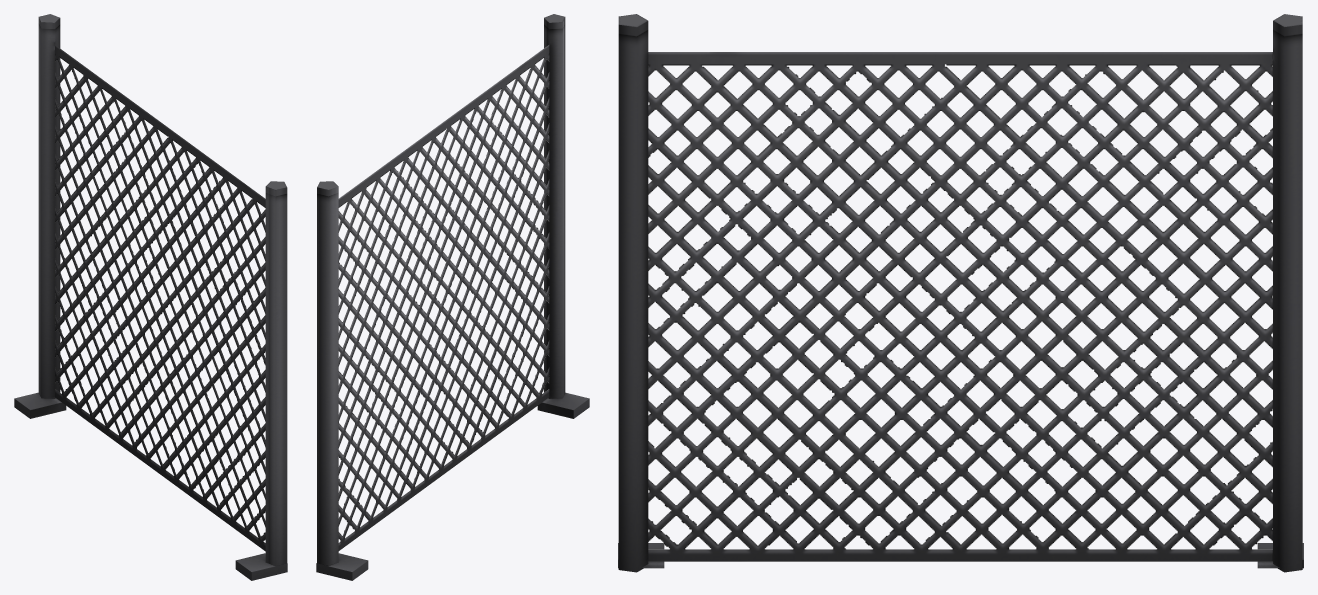
The model's file is Fence_Type1.FBX.
3 renders of one model, left to right at view 1: azimuth 30°, elevation 25°; view 2: azimuth 150°, elevation 25°; view 3: azimuth 270°, elevation 25°, orthographic. The views are drawn at different scales.
Parts seen in each view (by area): view 1: DrangHekken; view 2: DrangHekken; view 3: DrangHekken.
Boxes of the visible parts, x1,y1,x2,y2 form: DrangHekken: (14, 14, 287, 580); DrangHekken: (316, 14, 589, 580); DrangHekken: (618, 14, 1303, 572).
Bounding box in the file's own units: 19.12 × 179 × 200.
Materials: 1 (1 with a texture image).
